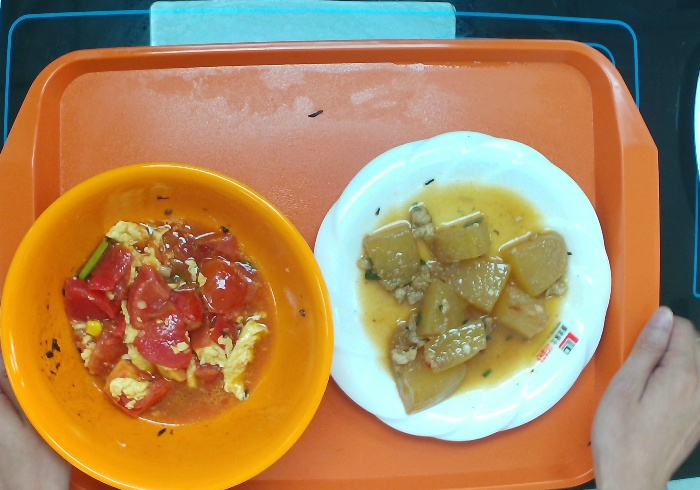ZNLD-Hua_Bian_Wan: (308, 128, 613, 445)
ZNLD-Ju_Se_Tang_Wan: (1, 158, 337, 490)
